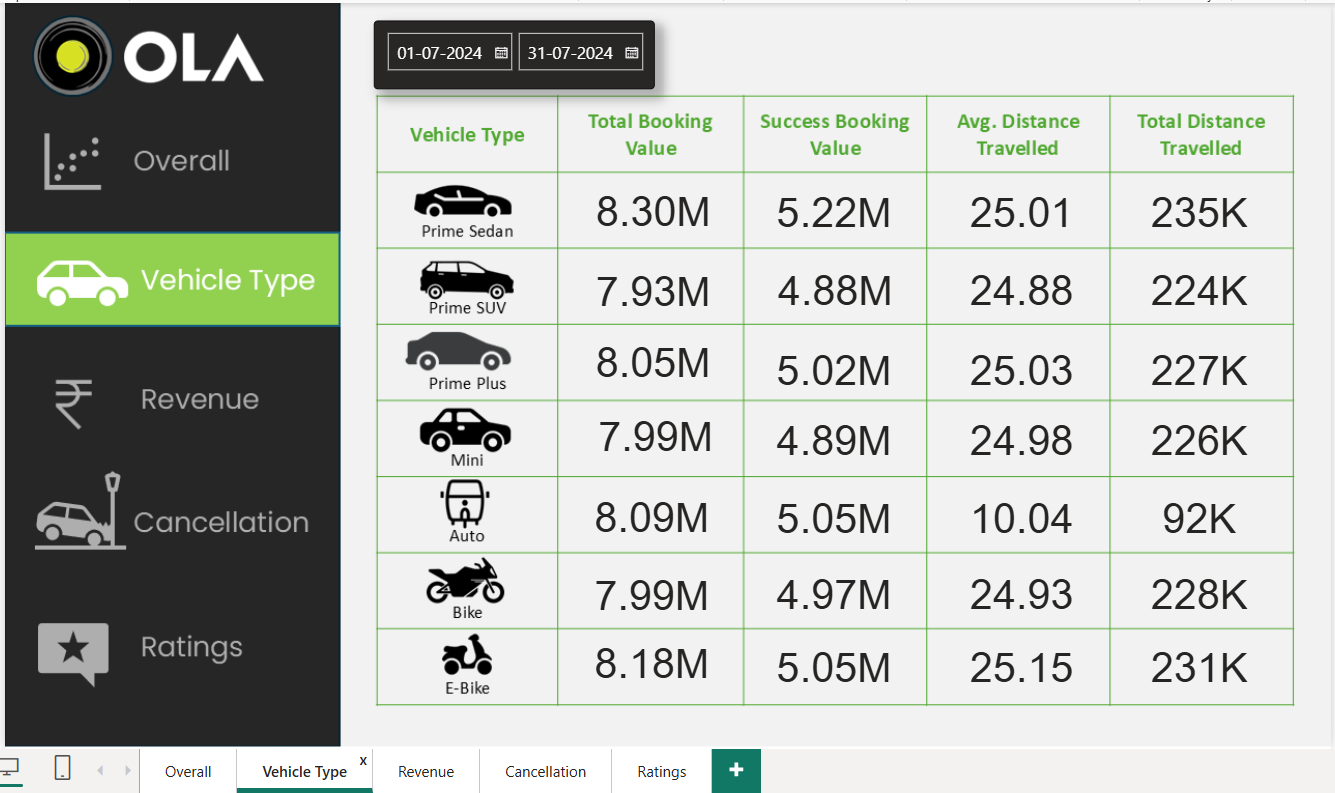

What the dashboard file says about the page in this screenshot:
{"tool":"powerbi","page":{"name":"Vehicle Type","canvas":[1280,720],"ordinal":1},"visuals":[{"type":"actionButton","box":[0,326.9,323.3,102.5],"z":0},{"type":"actionButton","box":[0,444,323.3,102.5],"z":1000},{"type":"actionButton","box":[0,569.4,323.3,102.5],"z":2000},{"type":"actionButton","box":[0,106.2,323.3,102.5],"z":3000},{"type":"card","fields":{"Values":["Sum(Sheet1 (2).Booking_Value)"]},"box":[542.9,166.5,166.5,66.4],"z":4000},{"type":"card","fields":{"Values":["Sum(Sheet1 (2).Booking_Value)"]},"box":[543.4,244.3,166,65.9],"z":5000},{"type":"card","fields":{"Values":["Sum(Sheet1 (2).Booking_Value)"]},"box":[543.4,312.9,166,65.9],"z":6000},{"type":"card","fields":{"Values":["Sum(Sheet1 (2).Booking_Value)"]},"box":[544.8,378.7,166,75.5],"z":7000},{"type":"card","fields":{"Values":["Sum(Sheet1 (2).Booking_Value)"]},"box":[542,462.4,166,65.9],"z":8000},{"type":"card","fields":{"Values":["Sum(Sheet1 (2).Booking_Value)"]},"box":[542,536.5,166,65.9],"z":9000},{"type":"card","fields":{"Values":["Sum(Sheet1 (2).Booking_Value)"]},"box":[542,602.4,166,67.2],"z":10000},{"type":"card","fields":{"Values":["Sum(Sheet1 (2).Booking_Value)"]},"box":[720.4,166,160.5,67.2],"z":11000},{"type":"card","fields":{"Values":["Sum(Sheet1 (2).Booking_Value)"]},"box":[720.4,535.2,160.5,67.2],"z":12000},{"type":"card","fields":{"Values":["Sum(Sheet1 (2).Booking_Value)"]},"box":[720.4,605.1,160.5,67.2],"z":13000},{"type":"card","fields":{"Values":["Sum(Sheet1 (2).Booking_Value)"]},"box":[720.4,319.7,160.5,67.2],"z":14000},{"type":"card","fields":{"Values":["Sum(Sheet1 (2).Booking_Value)"]},"box":[720.4,387,160.5,67.2],"z":15000},{"type":"card","fields":{"Values":["Sum(Sheet1 (2).Booking_Value)"]},"box":[720.4,462.4,160.5,67.2],"z":16000},{"type":"card","fields":{"Values":["Sum(Sheet1 (2).Booking_Value)"]},"box":[721.8,242.9,160.5,67.2],"z":17000},{"type":"card","fields":{"Values":["Avg(Sheet1 (2).Ride_Distance)"]},"box":[901.5,166,160.5,67.2],"z":18000},{"type":"card","fields":{"Values":["Avg(Sheet1 (2).Ride_Distance)"]},"box":[901.5,242.9,160.5,67.2],"z":19000},{"type":"card","fields":{"Values":["Avg(Sheet1 (2).Ride_Distance)"]},"box":[901.5,319.7,160.5,67.2],"z":20000},{"type":"card","fields":{"Values":["Avg(Sheet1 (2).Ride_Distance)"]},"box":[901.5,387,160.5,67.2],"z":21000},{"type":"card","fields":{"Values":["Avg(Sheet1 (2).Ride_Distance)"]},"box":[901.5,462.4,160.5,67.2],"z":22000},{"type":"card","fields":{"Values":["Avg(Sheet1 (2).Ride_Distance)"]},"box":[901.5,535.2,160.5,67.2],"z":23000},{"type":"card","fields":{"Values":["Avg(Sheet1 (2).Ride_Distance)"]},"box":[901.5,605.1,160.5,67.2],"z":24000},{"type":"card","fields":{"Values":["Sum(Sheet1 (2).Ride_Distance)"]},"box":[1073.1,166,160.5,67.2],"z":25000},{"type":"card","fields":{"Values":["Sum(Sheet1 (2).Ride_Distance)"]},"box":[1073.1,242.9,160.5,67.2],"z":26000},{"type":"card","fields":{"Values":["Sum(Sheet1 (2).Ride_Distance)"]},"box":[1073.1,319.7,160.5,67.2],"z":27000},{"type":"card","fields":{"Values":["Sum(Sheet1 (2).Ride_Distance)"]},"box":[1073.1,387,160.5,67.2],"z":28000},{"type":"card","fields":{"Values":["Sum(Sheet1 (2).Ride_Distance)"]},"box":[1073.1,462.4,160.5,67.2],"z":29000},{"type":"card","fields":{"Values":["Sum(Sheet1 (2).Ride_Distance)"]},"box":[1073.1,535.2,160.5,67.2],"z":30000},{"type":"card","fields":{"Values":["Sum(Sheet1 (2).Ride_Distance)"]},"box":[1073.1,605.1,160.5,67.2],"z":31000},{"type":"slicer","title":"Date","fields":{"Values":["Sheet1 (2).Date"]},"box":[355.9,16.9,271.4,66.4],"z":32000}]}

Visuals, with their boxes on the page's 1280x720 design canvas (x1, y1, x2, y2). These are canvas units, not pixel positions in the 1335x793 screenshot, which may show the page scaled, cropped or inside an application window:
actionButton: <box>0,327,323,429</box>
actionButton: <box>0,444,323,546</box>
actionButton: <box>0,569,323,672</box>
actionButton: <box>0,106,323,209</box>
card - Sum(Sheet1 (2).Booking_Value): <box>543,166,709,233</box>
card - Sum(Sheet1 (2).Booking_Value): <box>543,244,709,310</box>
card - Sum(Sheet1 (2).Booking_Value): <box>543,313,709,379</box>
card - Sum(Sheet1 (2).Booking_Value): <box>545,379,711,454</box>
card - Sum(Sheet1 (2).Booking_Value): <box>542,462,708,528</box>
card - Sum(Sheet1 (2).Booking_Value): <box>542,536,708,602</box>
card - Sum(Sheet1 (2).Booking_Value): <box>542,602,708,670</box>
card - Sum(Sheet1 (2).Booking_Value): <box>720,166,881,233</box>
card - Sum(Sheet1 (2).Booking_Value): <box>720,535,881,602</box>
card - Sum(Sheet1 (2).Booking_Value): <box>720,605,881,672</box>
card - Sum(Sheet1 (2).Booking_Value): <box>720,320,881,387</box>
card - Sum(Sheet1 (2).Booking_Value): <box>720,387,881,454</box>
card - Sum(Sheet1 (2).Booking_Value): <box>720,462,881,530</box>
card - Sum(Sheet1 (2).Booking_Value): <box>722,243,882,310</box>
card - Avg(Sheet1 (2).Ride_Distance): <box>902,166,1062,233</box>
card - Avg(Sheet1 (2).Ride_Distance): <box>902,243,1062,310</box>
card - Avg(Sheet1 (2).Ride_Distance): <box>902,320,1062,387</box>
card - Avg(Sheet1 (2).Ride_Distance): <box>902,387,1062,454</box>
card - Avg(Sheet1 (2).Ride_Distance): <box>902,462,1062,530</box>
card - Avg(Sheet1 (2).Ride_Distance): <box>902,535,1062,602</box>
card - Avg(Sheet1 (2).Ride_Distance): <box>902,605,1062,672</box>
card - Sum(Sheet1 (2).Ride_Distance): <box>1073,166,1234,233</box>
card - Sum(Sheet1 (2).Ride_Distance): <box>1073,243,1234,310</box>
card - Sum(Sheet1 (2).Ride_Distance): <box>1073,320,1234,387</box>
card - Sum(Sheet1 (2).Ride_Distance): <box>1073,387,1234,454</box>
card - Sum(Sheet1 (2).Ride_Distance): <box>1073,462,1234,530</box>
card - Sum(Sheet1 (2).Ride_Distance): <box>1073,535,1234,602</box>
card - Sum(Sheet1 (2).Ride_Distance): <box>1073,605,1234,672</box>
"Date" slicer: <box>356,17,627,83</box>
